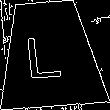L_N: (29, 28, 71, 80)
